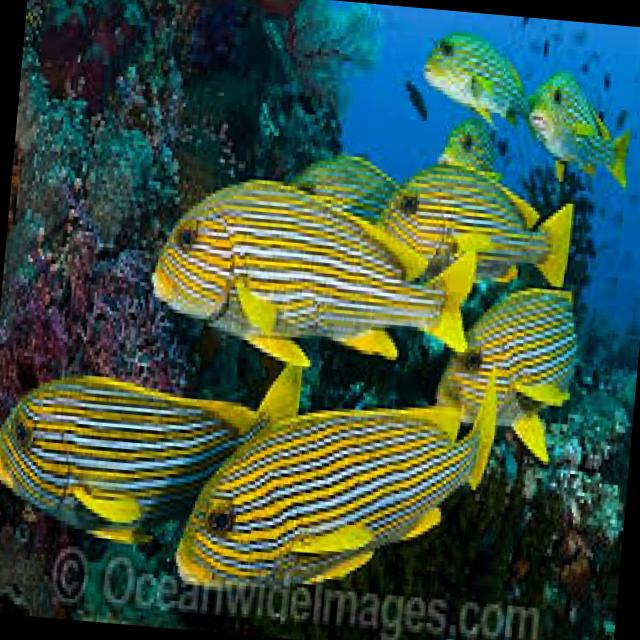RibbonedSweetlips: (172, 338, 500, 610), (145, 170, 481, 382), (0, 338, 303, 556), (368, 154, 579, 290), (428, 278, 582, 464), (520, 66, 638, 190), (418, 26, 534, 132)
